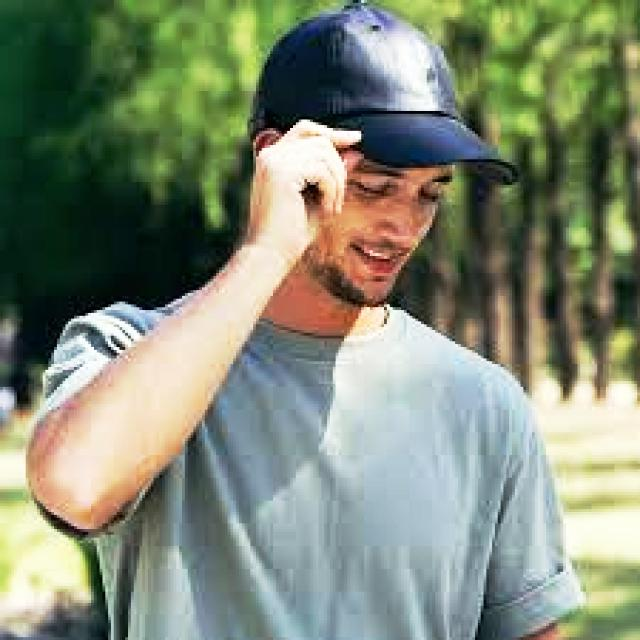TOPI: (246, 2, 534, 213)
